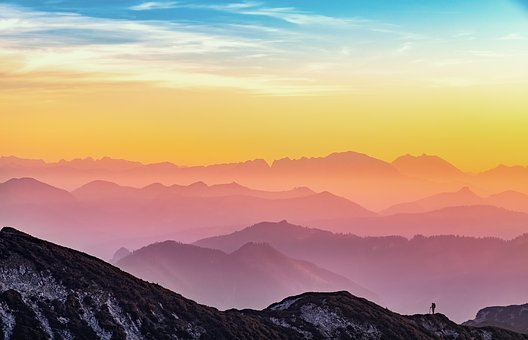mountain: (12, 230, 524, 332)
sky: (3, 1, 525, 151)
